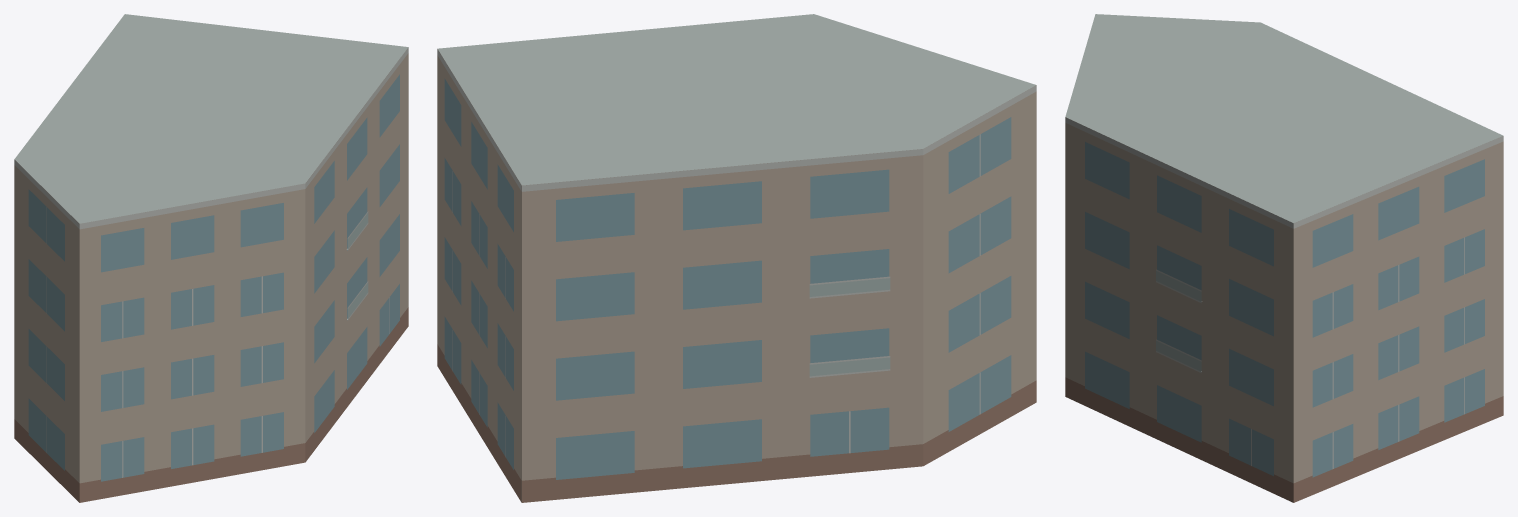
The model's file is residential-192c5806-93ac-45d4-acd5-75d1b2dc0283.glb.
3 renders of one model, left to right at view 1: azimuth 30°, elevation 25°; view 2: azimuth 150°, elevation 25°; view 3: azimuth 270°, elevation 25°, orthographic. The views are drawn at different scales.
Visible parts, largest first — view 1: residential-192c5806-93ac-45d4-acd5-75d1b2dc0283.tmp; view 2: residential-192c5806-93ac-45d4-acd5-75d1b2dc0283.tmp; view 3: residential-192c5806-93ac-45d4-acd5-75d1b2dc0283.tmp.
Boxes of the visible parts, x1,y1,x2,y2 form: residential-192c5806-93ac-45d4-acd5-75d1b2dc0283.tmp: (14,14,408,502); residential-192c5806-93ac-45d4-acd5-75d1b2dc0283.tmp: (437,14,1036,502); residential-192c5806-93ac-45d4-acd5-75d1b2dc0283.tmp: (1065,14,1503,502).
Bounding box in the file's own units: 19.59 × 12.2 × 17.34.
